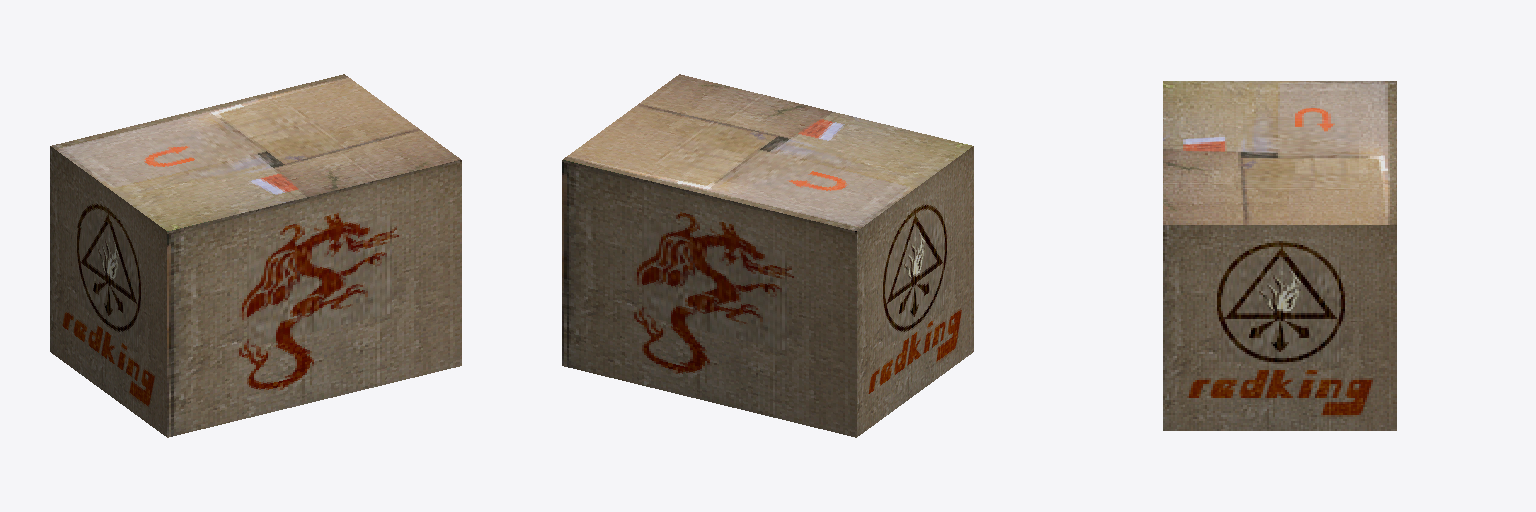
3 views of the same model, side by side, from view 1: azimuth 30°, elevation 25°; view 2: azimuth 150°, elevation 25°; view 3: azimuth 270°, elevation 25° (orthographic).
Parts seen in each view (by area): view 1: BOX4; view 2: BOX4; view 3: BOX4.
Part boxes in pixels (bbox=[...]): BOX4: bbox=[50, 74, 461, 437]; BOX4: bbox=[562, 74, 973, 437]; BOX4: bbox=[1163, 81, 1396, 430].
Bounding box in the file's own units: 9.52 × 6.38 × 6.55.
Materials: 1 (1 with a texture image).